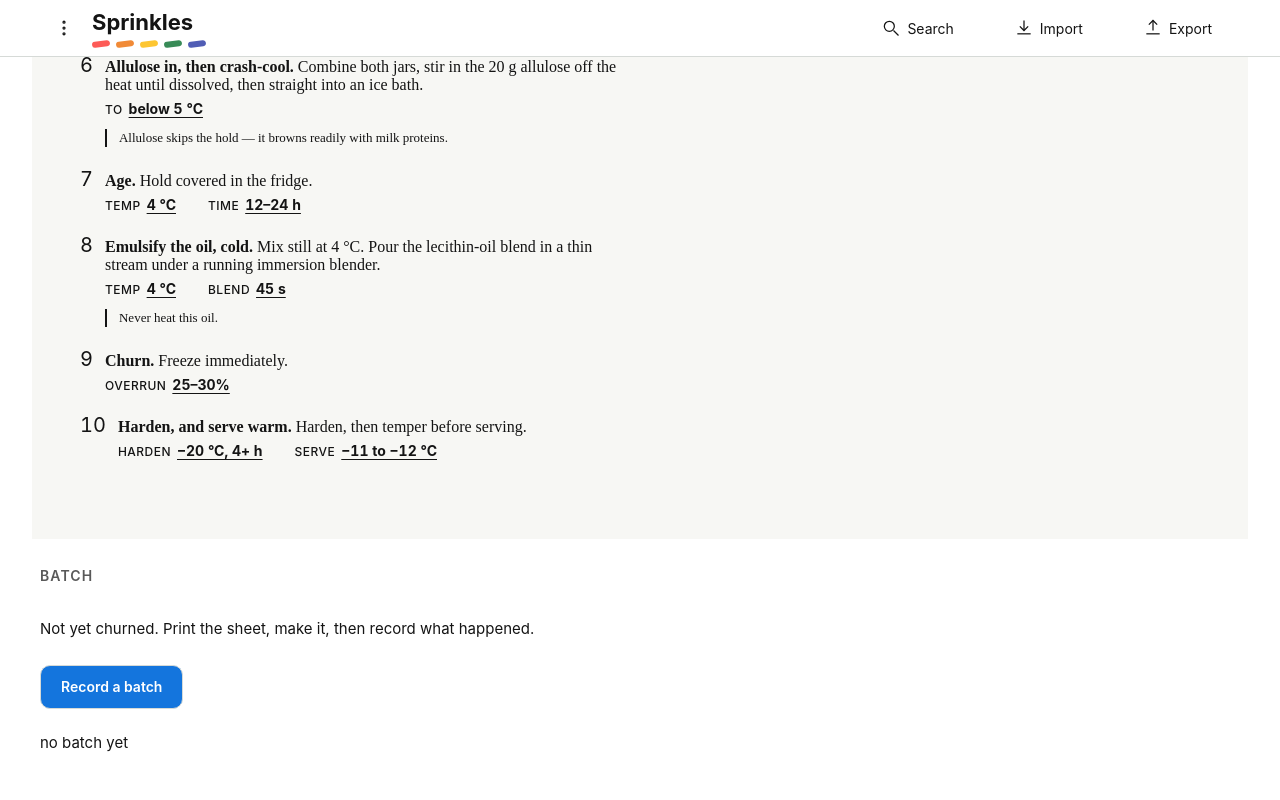
Test: Import is refused while a pen is open (261011-dz2, decide-import-refreshes-open-recipe-pens = refuse) › record pen: Import is refused
The width and height of the screenshot is (1280, 800).
(page scrolled)
Step 1. Click the button "Record a batch" → (112, 687), box [40,665,184,709]
(page scrolled)
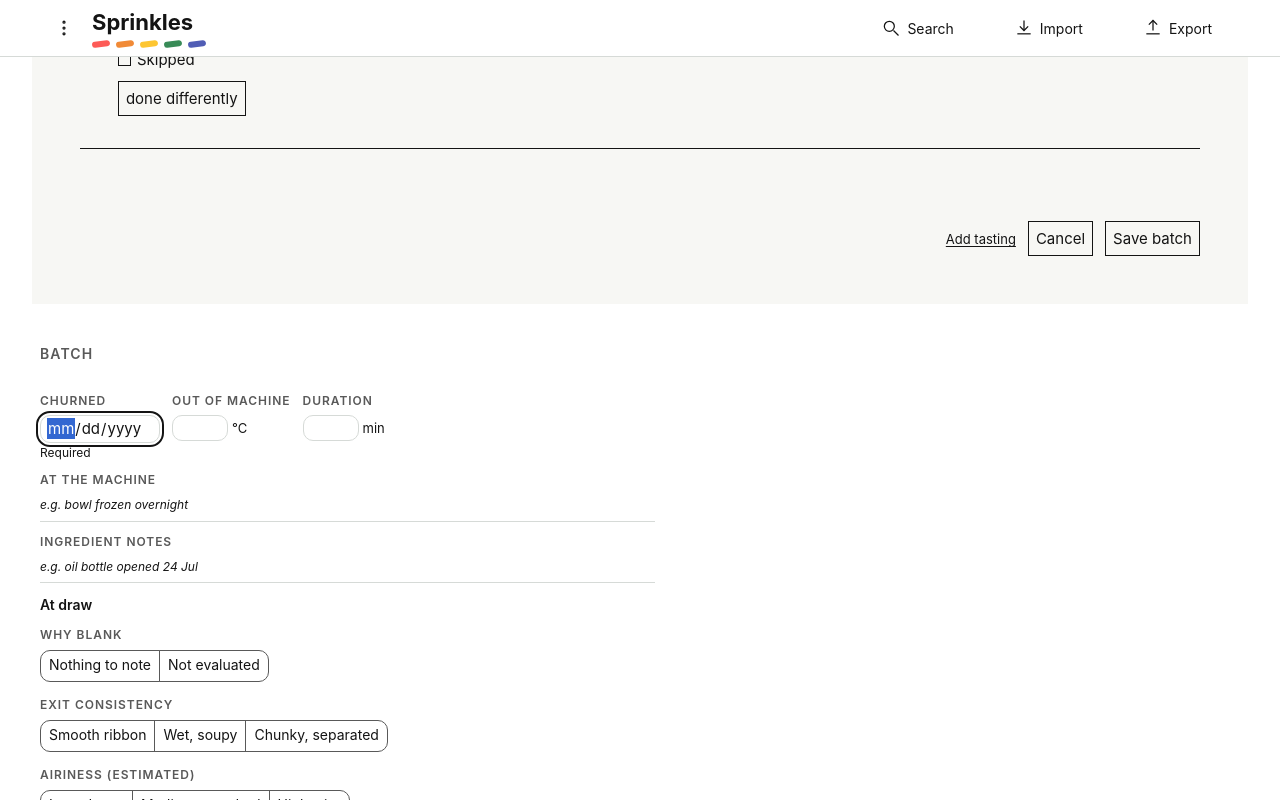
Step 2. Click the button "Import" → (1048, 28), box [994,6,1103,50]
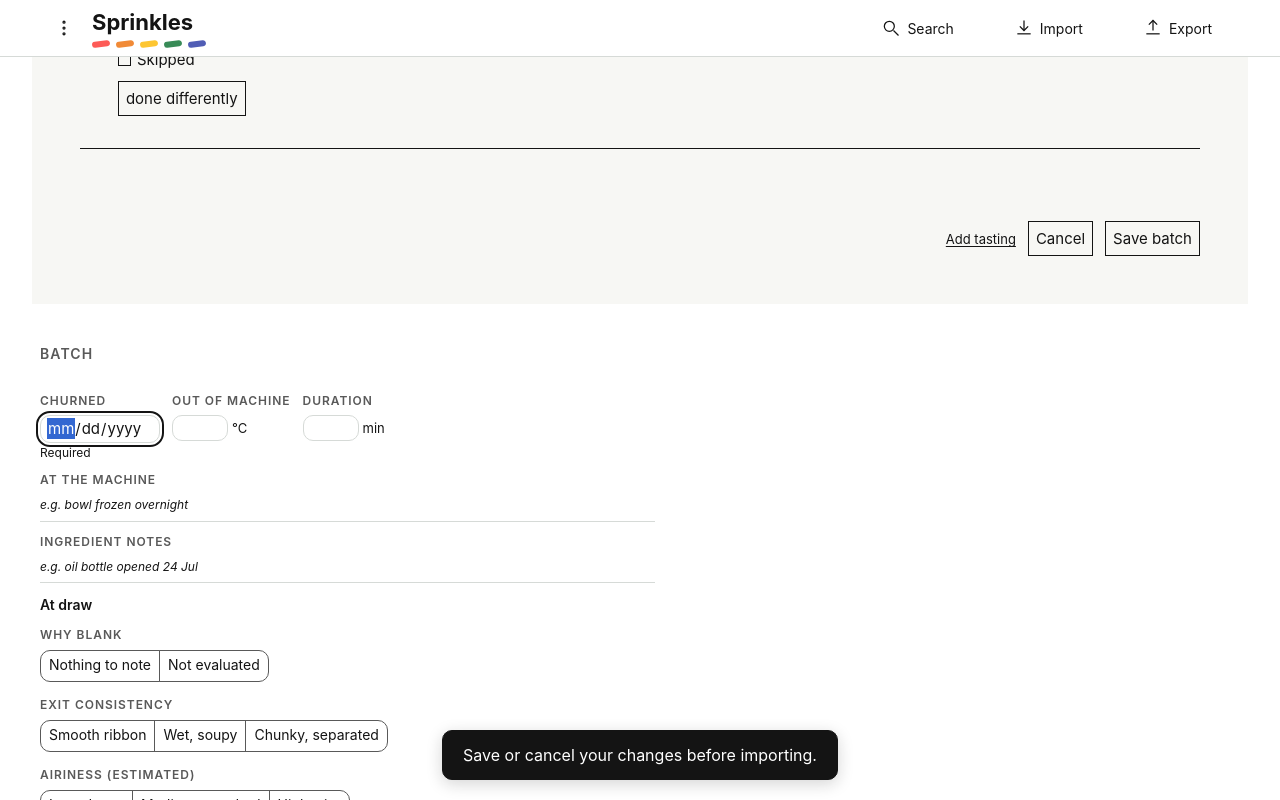
Result: the message "Save or cancel your changes before importing." is shown at [442,730,838,780]
